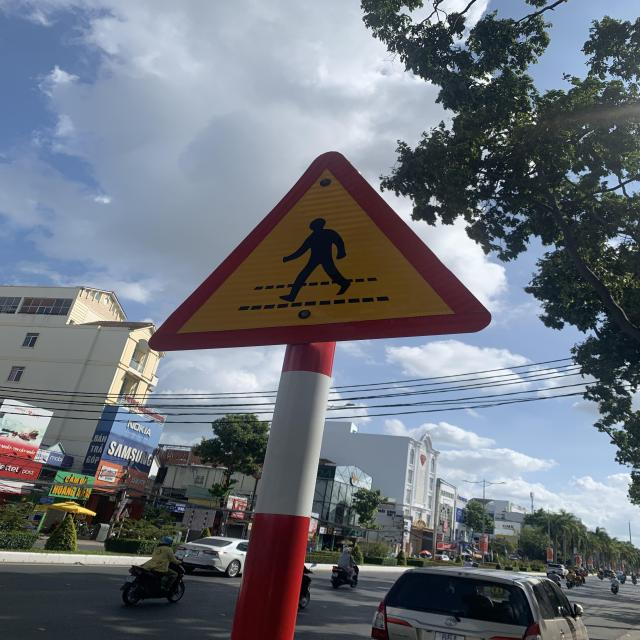Duong_Nguoi_Di_Bo_Sang_Ngang: (146, 151, 493, 352)
